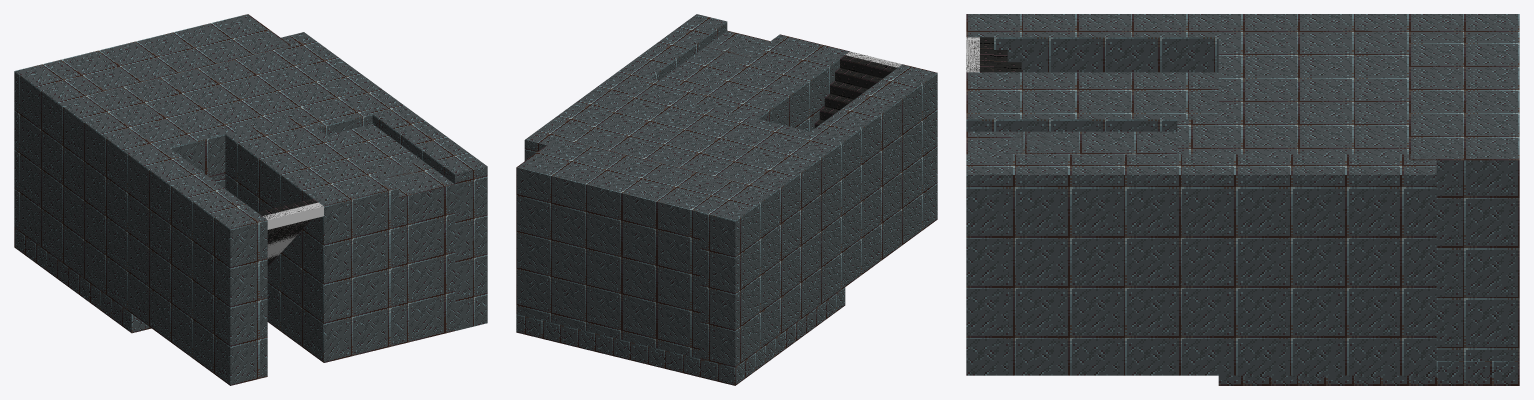
The model's file is base_stairs.obj.
3 renders of one model, left to right at view 1: azimuth 30°, elevation 25°; view 2: azimuth 150°, elevation 25°; view 3: azimuth 270°, elevation 25°, orthographic. The views are drawn at different scales.
Visible parts, largest first — view 1: entity0_brush0, entity0_brush1, entity0_brush8, entity0_brush4, entity0_brush6, entity0_brush3, entity0_brush5, entity0_brush2, entity0_brush7, entity1_brush0, entity2_brush11, entity2_brush9; view 2: entity0_brush0, entity0_brush3, entity0_brush8, entity0_brush1, entity0_brush2, entity0_brush4, entity0_brush5, entity0_brush6, entity2_brush11, entity0_brush7, entity2_brush17, entity2_brush8; view 3: entity0_brush4, entity0_brush3, entity0_brush8, entity0_brush0, entity0_brush1, entity0_brush2, entity0_brush5, entity0_brush6, entity0_brush7, entity2_brush11, entity1_brush0.
Boxes of the visible parts, x1=… form: entity0_brush0: x1=14, y1=62, x2=267, y2=385; entity0_brush1: x1=225, y1=116, x2=398, y2=362; entity0_brush8: x1=95, y1=48, x2=355, y2=177; entity0_brush4: x1=272, y1=32, x2=487, y2=330; entity0_brush6: x1=385, y1=160, x2=464, y2=344; entity0_brush3: x1=52, y1=14, x2=290, y2=188; entity0_brush5: x1=327, y1=124, x2=434, y2=182; entity0_brush2: x1=14, y1=228, x2=151, y2=333; entity0_brush7: x1=300, y1=102, x2=372, y2=134; entity1_brush0: x1=263, y1=202, x2=323, y2=229; entity2_brush11: x1=257, y1=198, x2=322, y2=219; entity2_brush9: x1=267, y1=220, x2=307, y2=258; entity0_brush0: x1=700, y1=64, x2=937, y2=367; entity0_brush3: x1=516, y1=140, x2=740, y2=358; entity0_brush8: x1=566, y1=89, x2=809, y2=182; entity0_brush1: x1=688, y1=34, x2=849, y2=131; entity0_brush2: x1=516, y1=287, x2=845, y2=385; entity0_brush4: x1=524, y1=14, x2=727, y2=160; entity0_brush5: x1=660, y1=42, x2=753, y2=90; entity0_brush6: x1=699, y1=30, x2=770, y2=62; entity2_brush11: x1=840, y1=52, x2=901, y2=78; entity0_brush7: x1=635, y1=78, x2=702, y2=101; entity2_brush17: x1=835, y1=68, x2=882, y2=88; entity2_brush8: x1=830, y1=81, x2=868, y2=99; entity0_brush4: x1=966, y1=154, x2=1436, y2=375; entity0_brush3: x1=1409, y1=37, x2=1519, y2=360; entity0_brush8: x1=1218, y1=37, x2=1408, y2=154; entity0_brush0: x1=966, y1=14, x2=1519, y2=72; entity0_brush1: x1=966, y1=72, x2=1218, y2=131; entity0_brush2: x1=1218, y1=361, x2=1519, y2=385; entity0_brush5: x1=1011, y1=131, x2=1177, y2=154; entity0_brush6: x1=966, y1=131, x2=1049, y2=154; entity0_brush7: x1=1177, y1=119, x2=1218, y2=154; entity2_brush11: x1=966, y1=37, x2=993, y2=72; entity1_brush0: x1=966, y1=37, x2=979, y2=72.
Bounding box in the file's own units: 220 × 144 × 320.
